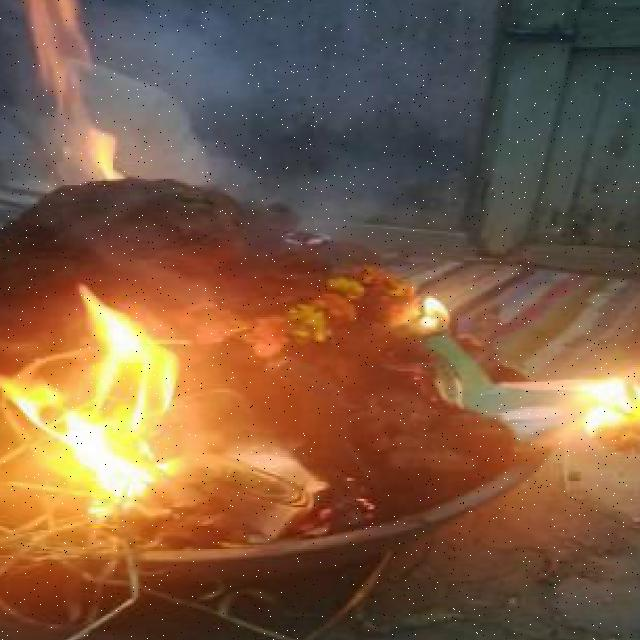fire: (0, 286, 176, 518), (10, 0, 124, 187), (518, 346, 640, 448), (412, 290, 456, 338)
smoke: (130, 5, 376, 206)
